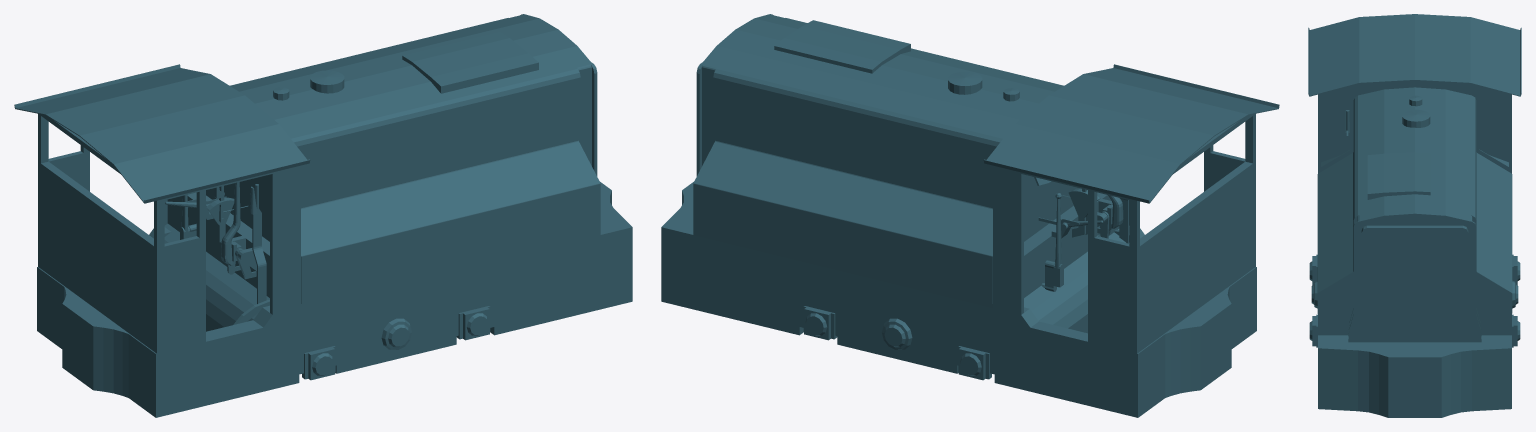
The model's file is wip_locomotive.glb.
The picture shows the model from 3 angles, left to right: view 1: azimuth 30°, elevation 25°; view 2: azimuth 150°, elevation 25°; view 3: azimuth 270°, elevation 25°; orthographic projection. The views are drawn at different scales.
Parts seen in each view (by area): view 1: product-ffe391d4-aa18-4ec9-90db-9f187223c2db-body, product-bfb16886-f943-4d66-9840-eb813b1f21d1-body, product-643d05a6-546b-423c-a0c7-b13937babb98-body, product-c418c92b-fd6c-48e7-9d01-af16780ea6a3-body, product-6f5f5d1f-4c6c-4c6e-b5e6-ea7bb940e52b-body, product-6c068bf9-655c-48e5-85c5-c32f605f7d74-body, product-c82d1cef-e8e3-4085-9c58-9fbe50a40f1f-body, product-4176d571-35b5-43a7-a6a1-09b139d60891-body, product-f2fc6b18-21ad-4acc-90a5-eedc99be7761-body; view 2: product-ffe391d4-aa18-4ec9-90db-9f187223c2db-body, product-bfb16886-f943-4d66-9840-eb813b1f21d1-body, product-643d05a6-546b-423c-a0c7-b13937babb98-body, product-c418c92b-fd6c-48e7-9d01-af16780ea6a3-body, product-6f5f5d1f-4c6c-4c6e-b5e6-ea7bb940e52b-body, product-62193a69-b148-4ba0-a371-124a90fd2693-body, product-4176d571-35b5-43a7-a6a1-09b139d60891-body; view 3: product-ffe391d4-aa18-4ec9-90db-9f187223c2db-body, product-6f5f5d1f-4c6c-4c6e-b5e6-ea7bb940e52b-body, product-bfb16886-f943-4d66-9840-eb813b1f21d1-body, product-c418c92b-fd6c-48e7-9d01-af16780ea6a3-body, product-643d05a6-546b-423c-a0c7-b13937babb98-body.
Part boxes in pixels (box(x1,y1,x2,y2)): product-ffe391d4-aa18-4ec9-90db-9f187223c2db-body: box(164, 18, 600, 331); product-bfb16886-f943-4d66-9840-eb813b1f21d1-body: box(37, 182, 632, 417); product-643d05a6-546b-423c-a0c7-b13937babb98-body: box(38, 113, 300, 353); product-c418c92b-fd6c-48e7-9d01-af16780ea6a3-body: box(14, 64, 310, 203); product-6f5f5d1f-4c6c-4c6e-b5e6-ea7bb940e52b-body: box(507, 14, 597, 176); product-6c068bf9-655c-48e5-85c5-c32f605f7d74-body: box(250, 184, 266, 303); product-c82d1cef-e8e3-4085-9c58-9fbe50a40f1f-body: box(221, 182, 241, 265); product-4176d571-35b5-43a7-a6a1-09b139d60891-body: box(206, 186, 248, 242); product-f2fc6b18-21ad-4acc-90a5-eedc99be7761-body: box(227, 235, 256, 279); product-ffe391d4-aa18-4ec9-90db-9f187223c2db-body: box(693, 18, 1129, 333); product-bfb16886-f943-4d66-9840-eb813b1f21d1-body: box(661, 182, 1256, 417); product-643d05a6-546b-423c-a0c7-b13937babb98-body: box(993, 113, 1255, 353); product-c418c92b-fd6c-48e7-9d01-af16780ea6a3-body: box(983, 64, 1279, 203); product-6f5f5d1f-4c6c-4c6e-b5e6-ea7bb940e52b-body: box(696, 14, 786, 176); product-62193a69-b148-4ba0-a371-124a90fd2693-body: box(1053, 193, 1063, 287); product-4176d571-35b5-43a7-a6a1-09b139d60891-body: box(1062, 188, 1099, 237); product-ffe391d4-aa18-4ec9-90db-9f187223c2db-body: box(1317, 87, 1512, 335); product-6f5f5d1f-4c6c-4c6e-b5e6-ea7bb940e52b-body: box(1348, 206, 1481, 342); product-bfb16886-f943-4d66-9840-eb813b1f21d1-body: box(1309, 254, 1520, 417); product-c418c92b-fd6c-48e7-9d01-af16780ea6a3-body: box(1308, 14, 1521, 96); product-643d05a6-546b-423c-a0c7-b13937babb98-body: box(1318, 80, 1511, 173).
Size of the model in its own units: 0.45 by 0.2167 by 0.1967.
